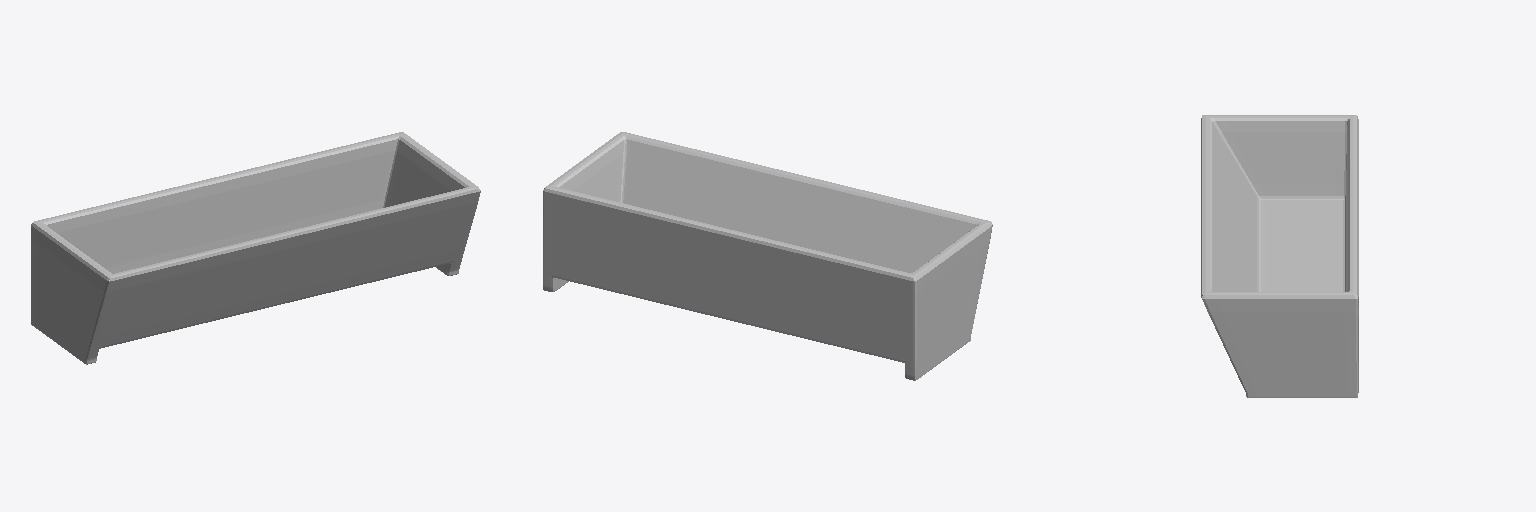
The model's file is feedingtray.obj.
The picture shows the model from 3 angles: view 1: azimuth 30°, elevation 25°; view 2: azimuth 150°, elevation 25°; view 3: azimuth 270°, elevation 25°; orthographic projection.
Visible parts, largest first — view 1: Cube; view 2: Cube; view 3: Cube.
Part boxes in pixels (x1,y1,x2,y2): Cube: (31, 132, 480, 364); Cube: (543, 132, 992, 380); Cube: (1201, 115, 1358, 397).
Bounding box in the file's own units: 3.8 × 0.999 × 1.38.